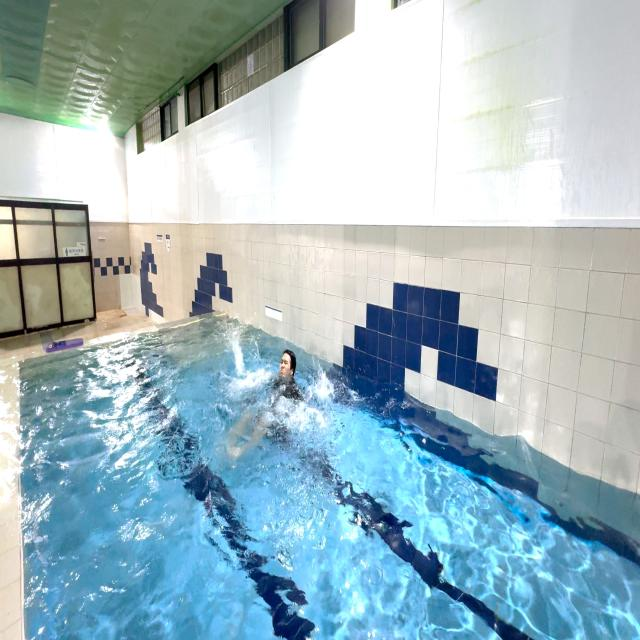Drowning: (233, 334, 334, 435)
